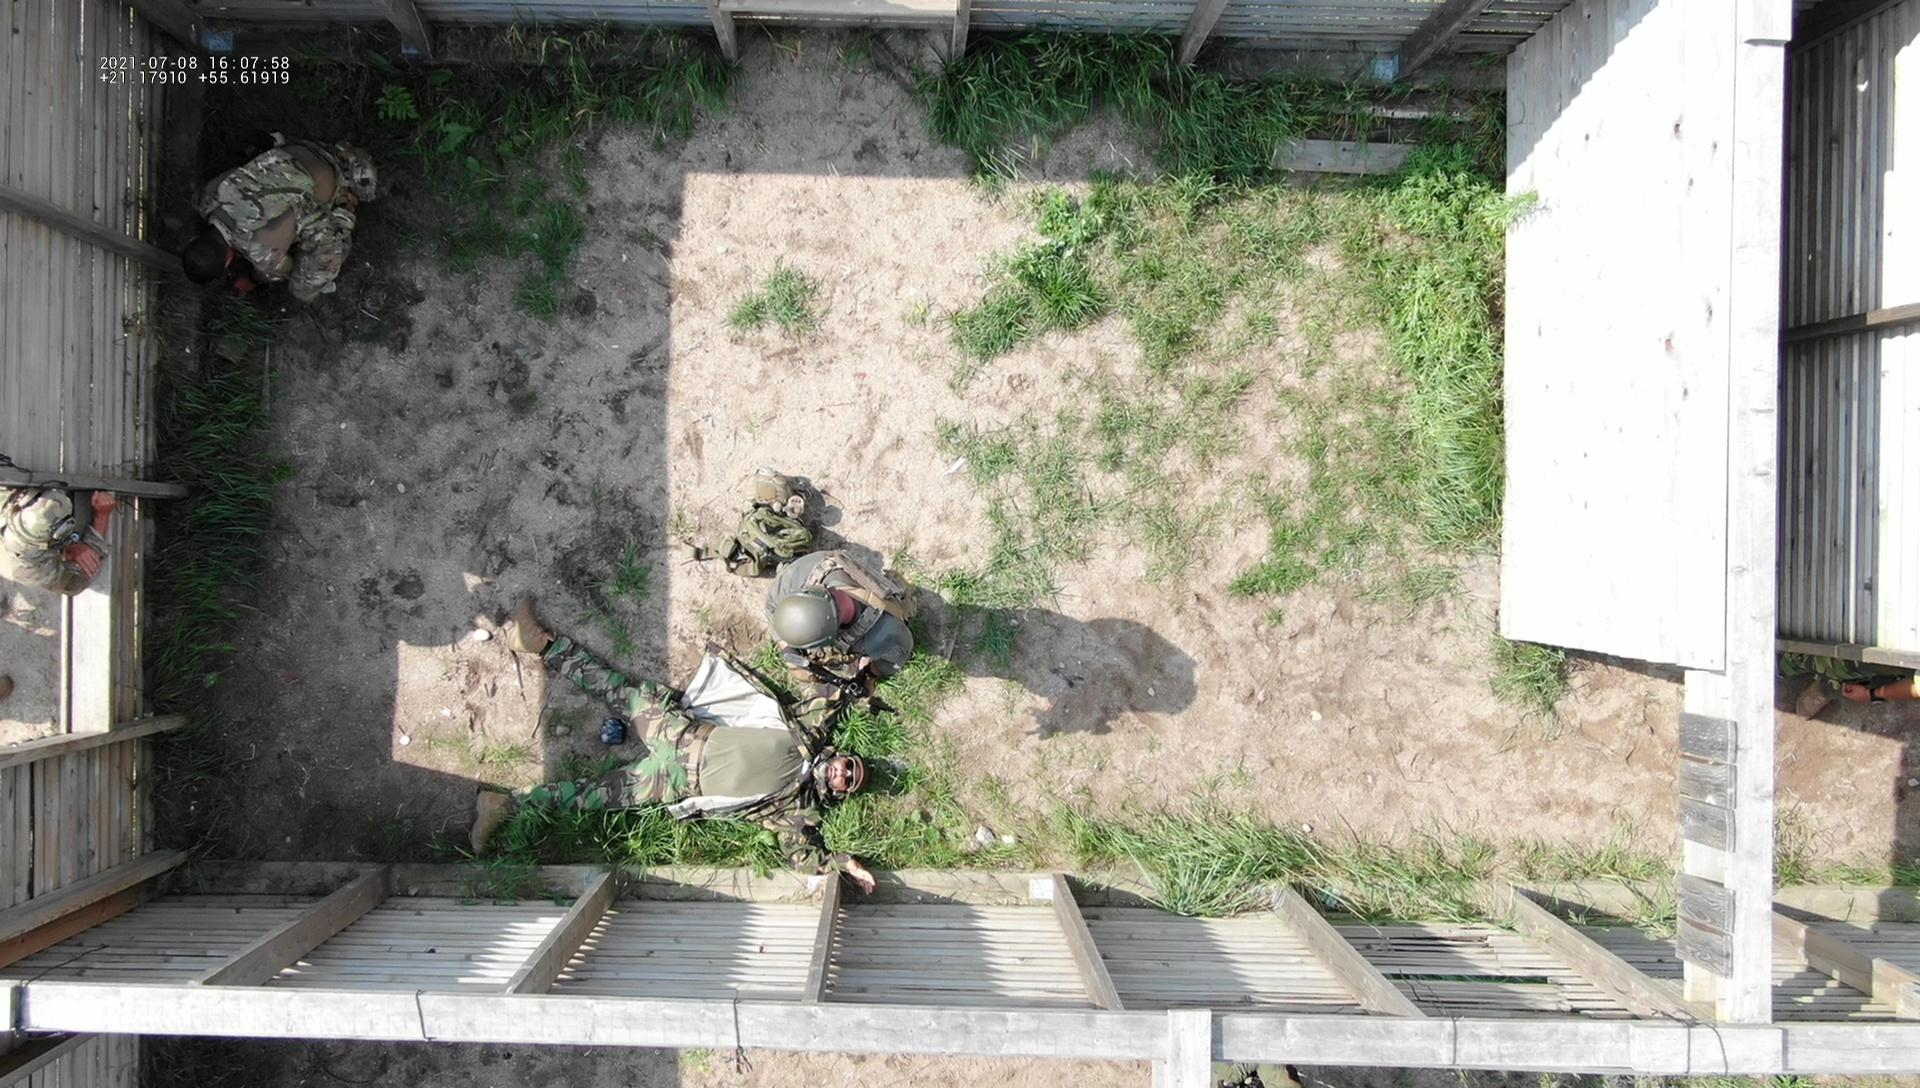Soldier: (491, 677, 880, 924), (169, 131, 422, 349), (750, 517, 953, 711), (0, 480, 123, 617)
